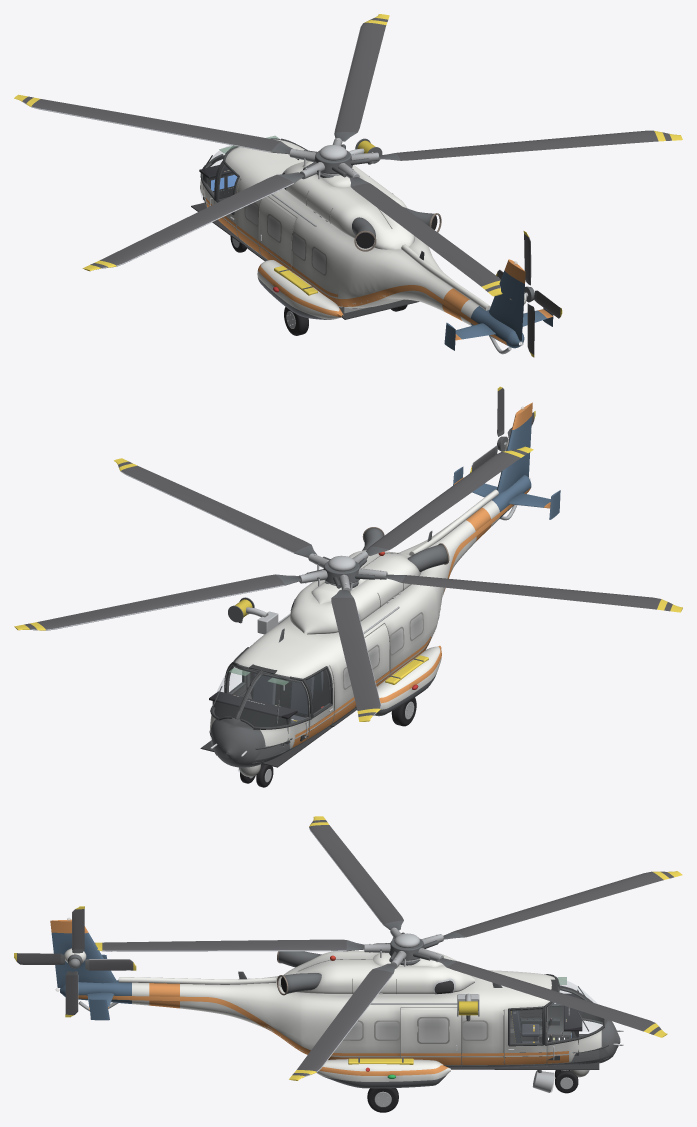
The model's file is guardian_s9.glb.
3 views of the same model, one above another, from view 1: azimuth 30°, elevation 25°; view 2: azimuth 150°, elevation 25°; view 3: azimuth 270°, elevation 25° (orthographic). The views are drawn at different scales.
Visible parts, largest first — view 1: Fuselage (game), Engine cowling (game), Main rotor blade.003 (game), Main rotor blade.004 (game), Main rotor blade.001 (game), Main rotor blade (game), Main rotor blade.002 (game), Sponson (game), Fin (game), Fuselage (door).003 (game), Cheatline.001 (game), Drive shaft fairing (game) (+2 smaller); view 2: Fuselage (game), Engine cowling (game), Main rotor blade.002 (game), Main rotor blade.001 (game), Main rotor blade.003 (game), Main rotor blade.004 (game), Main rotor blade (game), Fin (game), Sponson (game), Fuselage (door).002 (game), Fuselage (door).003 (game), Instrument panel (game) (+6 smaller); view 3: Fuselage (game), Engine cowling (game), Main rotor blade (game), Main rotor blade.001 (game), Main rotor blade.002 (game), Main rotor blade.004 (game), Fuselage (door).001 (game), Main rotor blade.003 (game), Sponson.001 (game), Fin (game), Cheatline (game), Fuselage (door) (game) (+13 smaller).
Part boxes in pixels (<box>): Fuselage (game): <box>200,139,524,348</box>; Engine cowling (game): <box>283,161,414,249</box>; Main rotor blade.003 (game): <box>14,94,292,154</box>; Main rotor blade.004 (game): <box>82,172,304,271</box>; Main rotor blade.001 (game): <box>378,130,682,160</box>; Main rotor blade (game): <box>349,177,502,296</box>; Main rotor blade.002 (game): <box>334,14,389,141</box>; Sponson (game): <box>257,270,343,319</box>; Fin (game): <box>489,259,525,341</box>; Fuselage (door).003 (game): <box>259,197,295,269</box>; Cheatline.001 (game): <box>206,203,507,345</box>; Drive shaft fairing (game): <box>401,244,490,310</box>; Fuselage (game): <box>210,475,531,767</box>; Engine cowling (game): <box>290,550,421,634</box>; Main rotor blade.002 (game): <box>14,574,300,630</box>; Main rotor blade.001 (game): <box>114,458,316,557</box>; Main rotor blade.003 (game): <box>331,589,381,721</box>; Main rotor blade.004 (game): <box>384,574,682,612</box>; Main rotor blade (game): <box>366,446,533,555</box>; Fin (game): <box>497,402,532,493</box>; Sponson (game): <box>374,646,441,716</box>; Fuselage (door).002 (game): <box>307,666,333,730</box>; Fuselage (door).003 (game): <box>365,625,389,684</box>; Instrument panel (game): <box>212,701,291,744</box>; Fuselage (game): <box>60,970,620,1067</box>; Engine cowling (game): <box>276,950,474,993</box>; Main rotor blade (game): <box>95,939,364,951</box>; Main rotor blade.001 (game): <box>289,963,395,1080</box>; Main rotor blade.002 (game): <box>437,958,667,1037</box>; Main rotor blade.004 (game): <box>309,816,403,930</box>; Fuselage (door).001 (game): <box>401,1010,461,1065</box>; Main rotor blade.003 (game): <box>443,871,682,939</box>; Sponson.001 (game): <box>316,1059,450,1088</box>; Fin (game): <box>50,919,116,987</box>; Cheatline (game): <box>78,995,568,1064</box>; Fuselage (door) (game): <box>504,1009,546,1065</box>.
Size of the model in its own units: 14.34 by 4.8 by 15.31.
